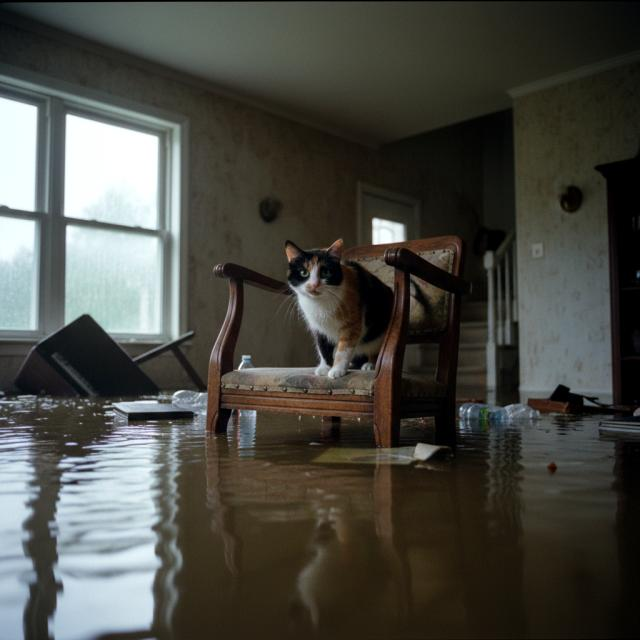cat: (274, 229, 398, 390)
